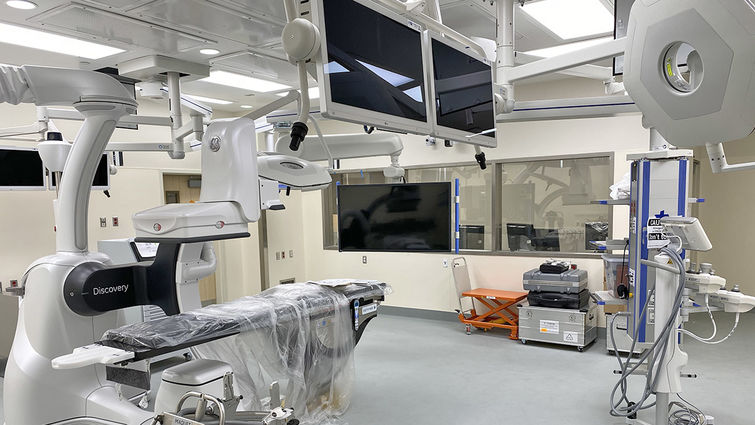bedside_monitor: (307, 1, 427, 134), (428, 29, 498, 150), (338, 181, 454, 253), (1, 152, 46, 187), (84, 155, 117, 189)
computer: (504, 225, 534, 252), (531, 226, 561, 253)
operating_bed: (85, 280, 385, 423)
surgical_light: (624, 1, 755, 148), (255, 154, 330, 192)
